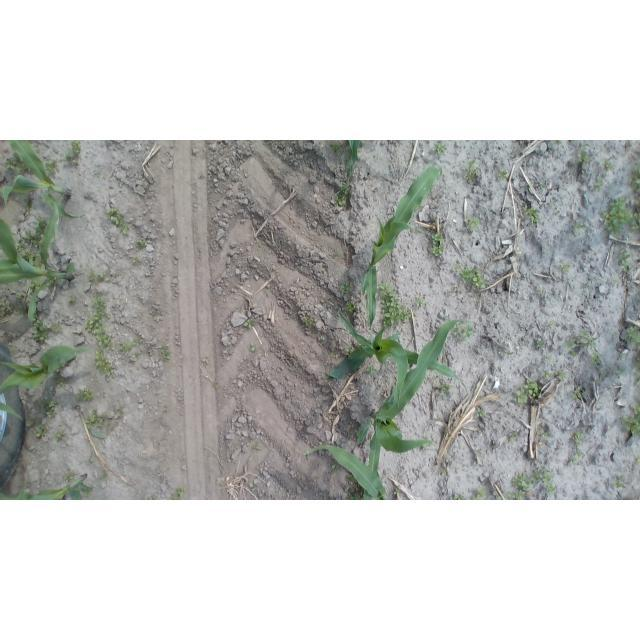Maize: (354, 319, 473, 478), (359, 166, 441, 340), (324, 314, 471, 391), (0, 196, 76, 322), (0, 343, 92, 421), (0, 141, 84, 220), (304, 443, 388, 500), (0, 470, 92, 500), (340, 140, 363, 205)
Weeds: (378, 280, 415, 330), (601, 196, 640, 236), (85, 297, 112, 351), (510, 468, 540, 500), (454, 264, 488, 290), (31, 318, 63, 343), (514, 379, 542, 406), (104, 207, 131, 235), (94, 349, 116, 377), (27, 219, 48, 248), (4, 154, 32, 174), (623, 405, 640, 436), (453, 324, 476, 343), (430, 232, 447, 257), (432, 376, 452, 397), (541, 467, 555, 495), (599, 365, 625, 380), (66, 141, 83, 163), (85, 412, 108, 428), (38, 400, 58, 418), (523, 205, 541, 225), (334, 184, 350, 206), (465, 215, 482, 235), (578, 331, 598, 348), (85, 271, 111, 284), (119, 338, 141, 353), (465, 162, 480, 183), (15, 291, 28, 315), (346, 483, 365, 499), (625, 324, 640, 344), (630, 164, 640, 194), (617, 250, 631, 271), (75, 388, 95, 402), (45, 157, 60, 175), (564, 339, 579, 357), (157, 345, 171, 364), (0, 298, 14, 317), (634, 346, 640, 389), (577, 144, 589, 165), (24, 252, 41, 266), (571, 385, 585, 402), (170, 486, 186, 500), (572, 219, 586, 235), (571, 450, 585, 465), (612, 475, 626, 490), (35, 425, 49, 440), (474, 486, 489, 500), (571, 430, 585, 445), (302, 315, 316, 329), (366, 363, 379, 378), (20, 198, 32, 214), (433, 142, 448, 154), (340, 282, 352, 297), (345, 302, 358, 315), (137, 239, 152, 250), (559, 261, 572, 273), (498, 170, 510, 183), (15, 239, 27, 252), (592, 178, 604, 190), (330, 141, 342, 153), (602, 158, 614, 170), (244, 317, 256, 329), (591, 352, 602, 365), (533, 339, 547, 349), (200, 355, 212, 366), (130, 351, 142, 362), (475, 406, 486, 418), (55, 374, 66, 386), (450, 492, 466, 500), (116, 405, 125, 419), (251, 442, 263, 452), (540, 429, 550, 441), (538, 180, 548, 192), (535, 285, 545, 296), (555, 370, 565, 381), (54, 431, 65, 441), (248, 343, 258, 354), (507, 432, 518, 442), (67, 295, 77, 306), (249, 483, 259, 494), (584, 281, 594, 292), (416, 297, 426, 308), (64, 471, 74, 481), (331, 463, 340, 474), (32, 280, 41, 291), (422, 438, 430, 450), (26, 418, 38, 426), (450, 285, 459, 295), (318, 332, 327, 342), (132, 257, 142, 266), (543, 371, 552, 381), (346, 472, 355, 482), (45, 278, 55, 287), (99, 473, 109, 482), (474, 449, 483, 459), (497, 493, 509, 500), (94, 170, 103, 179), (510, 151, 519, 160), (612, 331, 621, 340), (117, 179, 126, 188), (212, 382, 221, 391), (82, 489, 91, 498), (354, 427, 362, 437), (545, 354, 555, 362), (333, 250, 343, 258), (345, 346, 353, 355), (549, 140, 563, 145), (612, 278, 623, 284), (598, 278, 606, 286), (551, 199, 558, 208), (548, 321, 557, 328), (443, 467, 450, 476), (635, 455, 640, 465), (394, 488, 401, 495), (517, 305, 524, 312), (505, 349, 512, 356), (329, 352, 335, 359), (418, 205, 425, 211), (163, 405, 168, 413), (443, 356, 449, 362), (330, 415, 335, 422), (150, 497, 157, 500)
